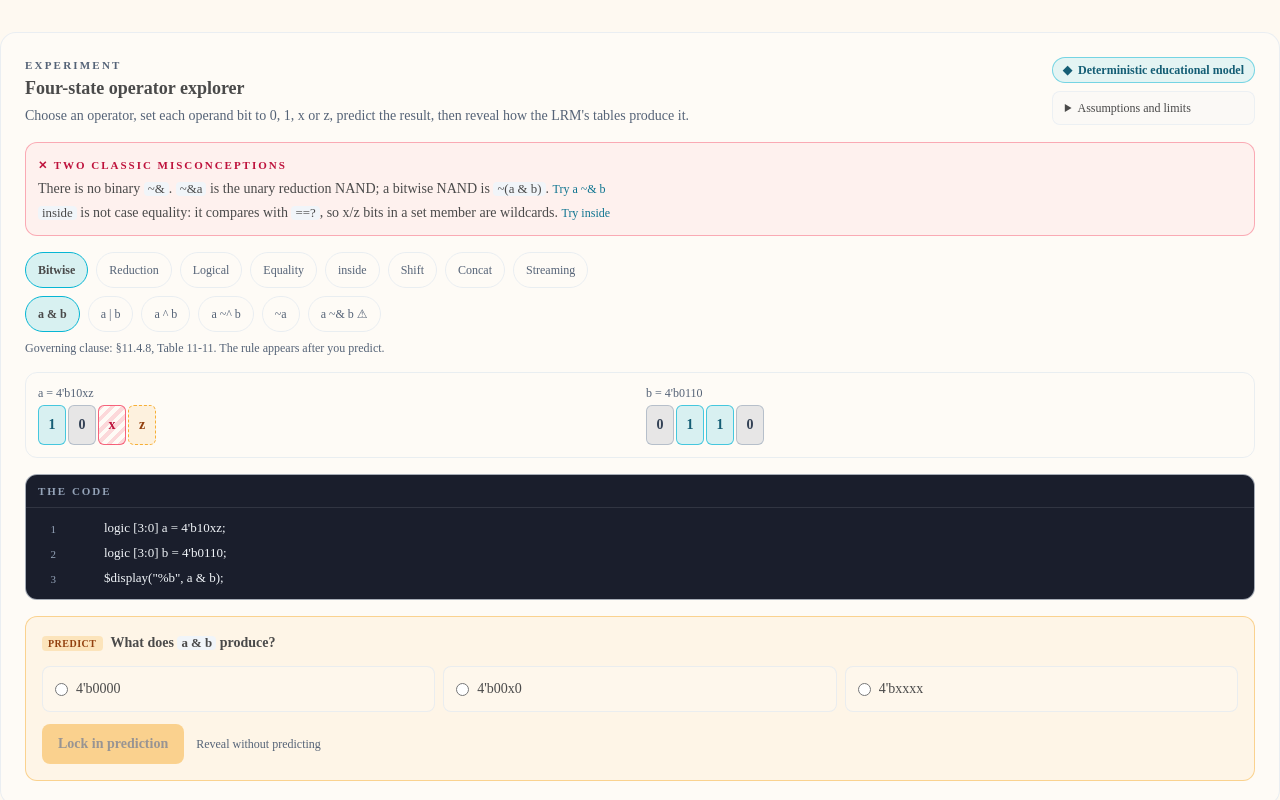
Test: OperatorExplorer › inside matches with wildcards and shows what === would have said
Click the button "Try inside" at point(586, 212), box [562,204,610,220]
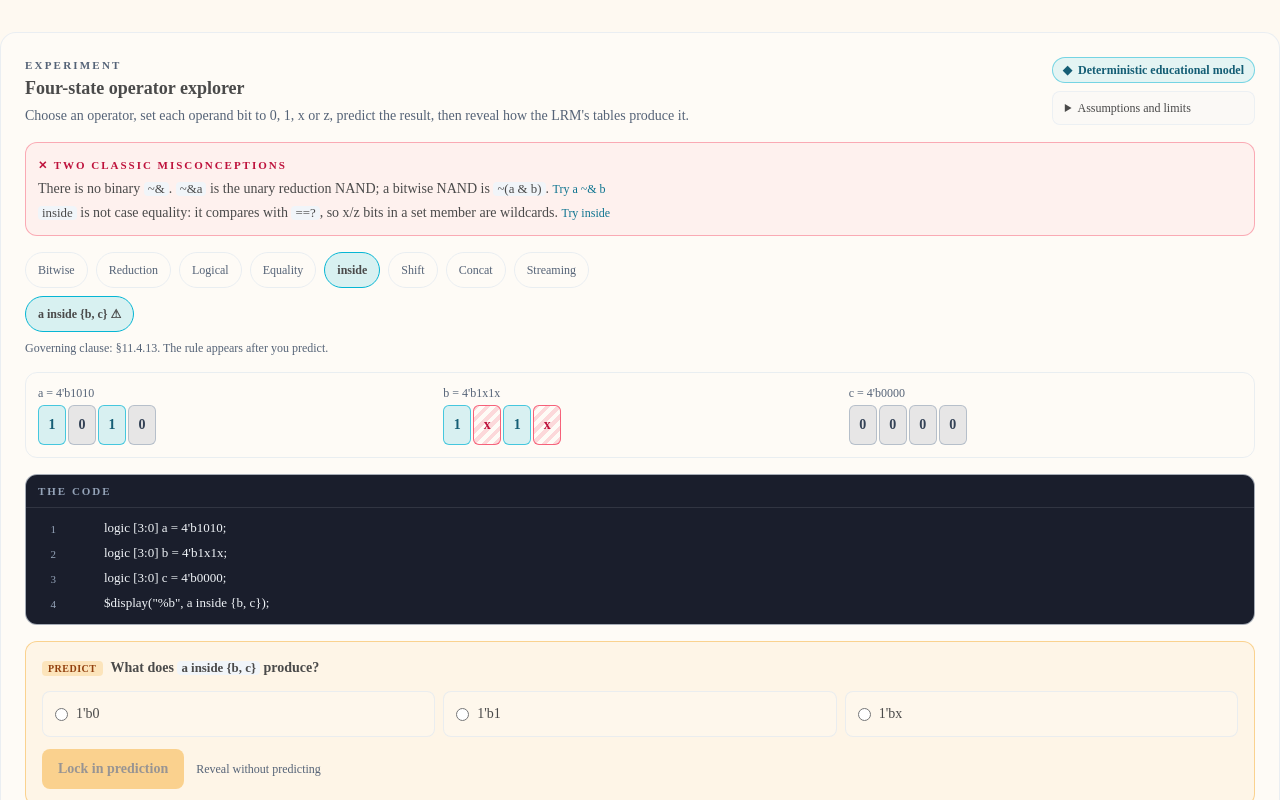
Click the radio button labelled "1'b0" at point(62, 714), box [55,708,68,721]
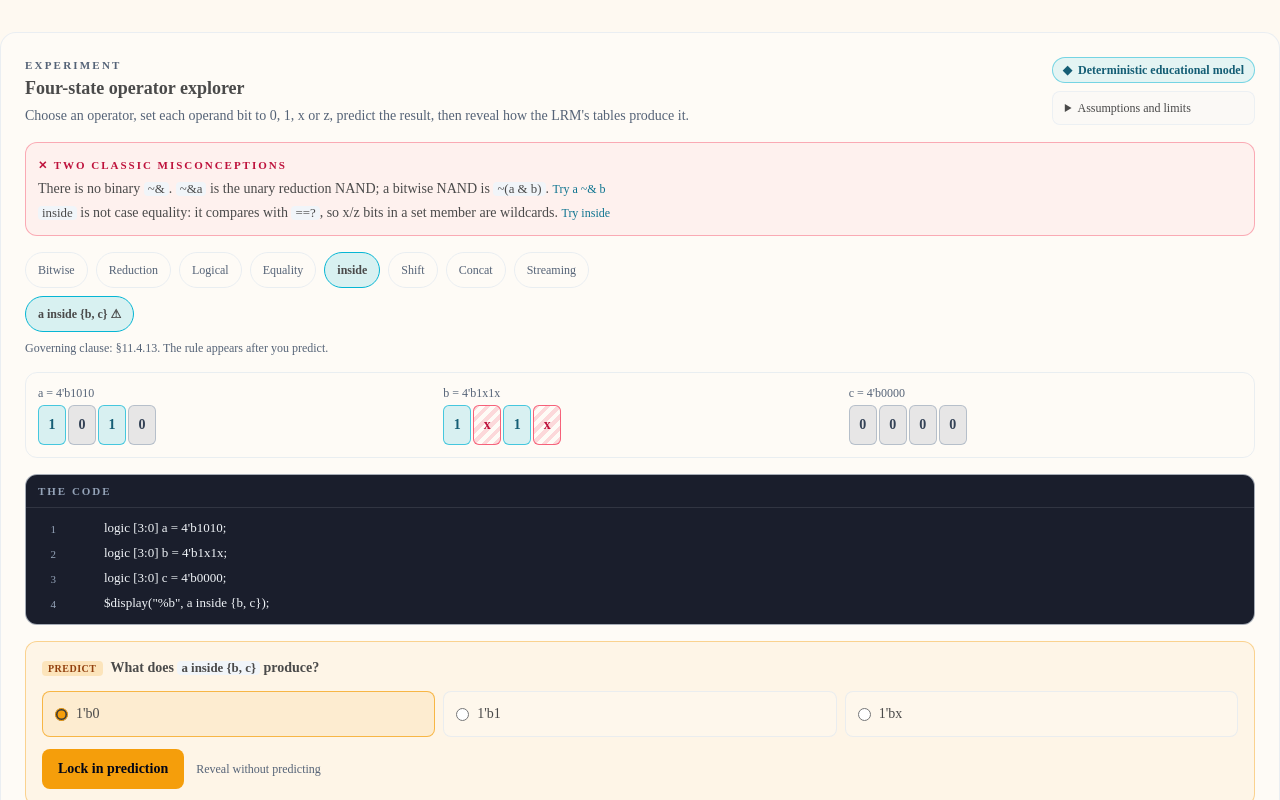
Click the button "Lock in prediction" at point(113, 769), box [42,749,184,789]
(page scrolled)
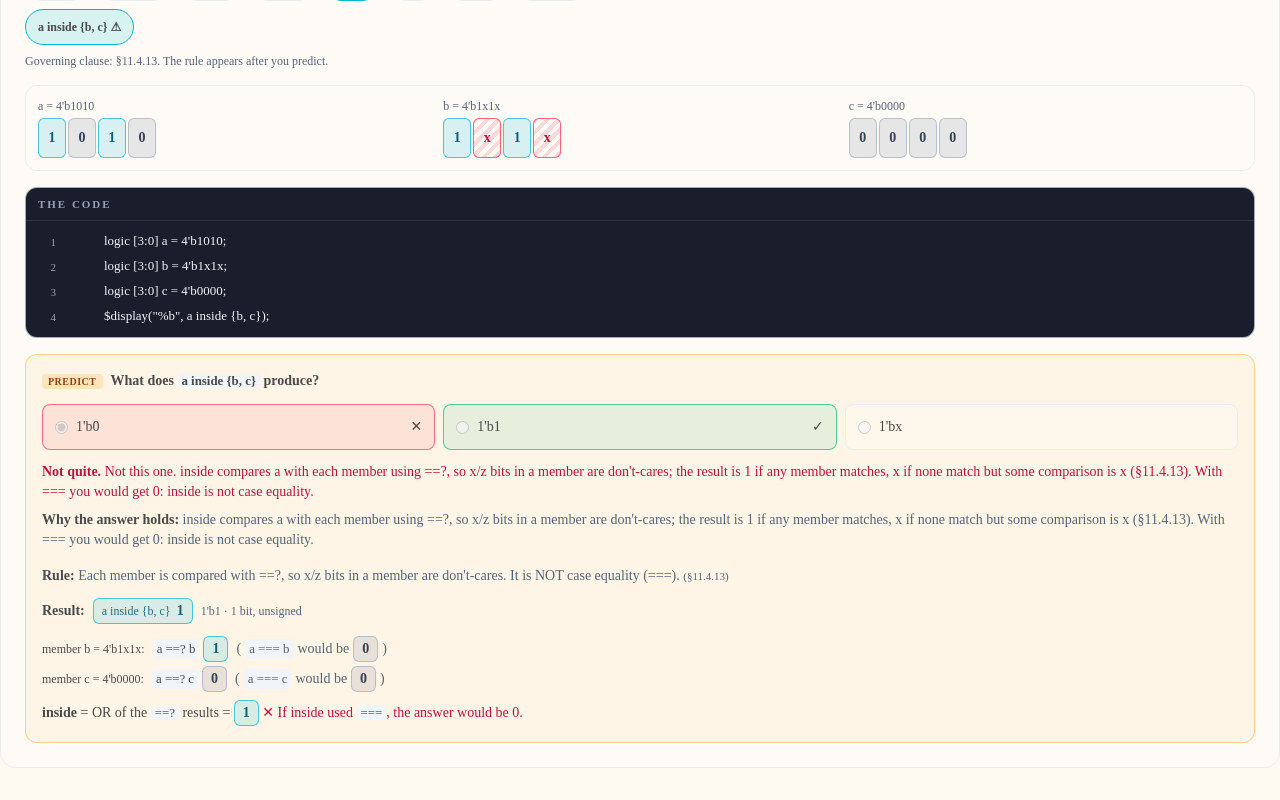
Check: the text "Not quite." is shown, box [42,464,105,479]
Check: the text "✕ If inside used ===, the answer would be 0." is shown, box [259,705,523,720]
